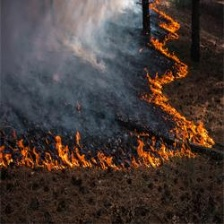fire: (141, 5, 214, 166), (2, 131, 143, 177)
smoke: (1, 1, 137, 110)
